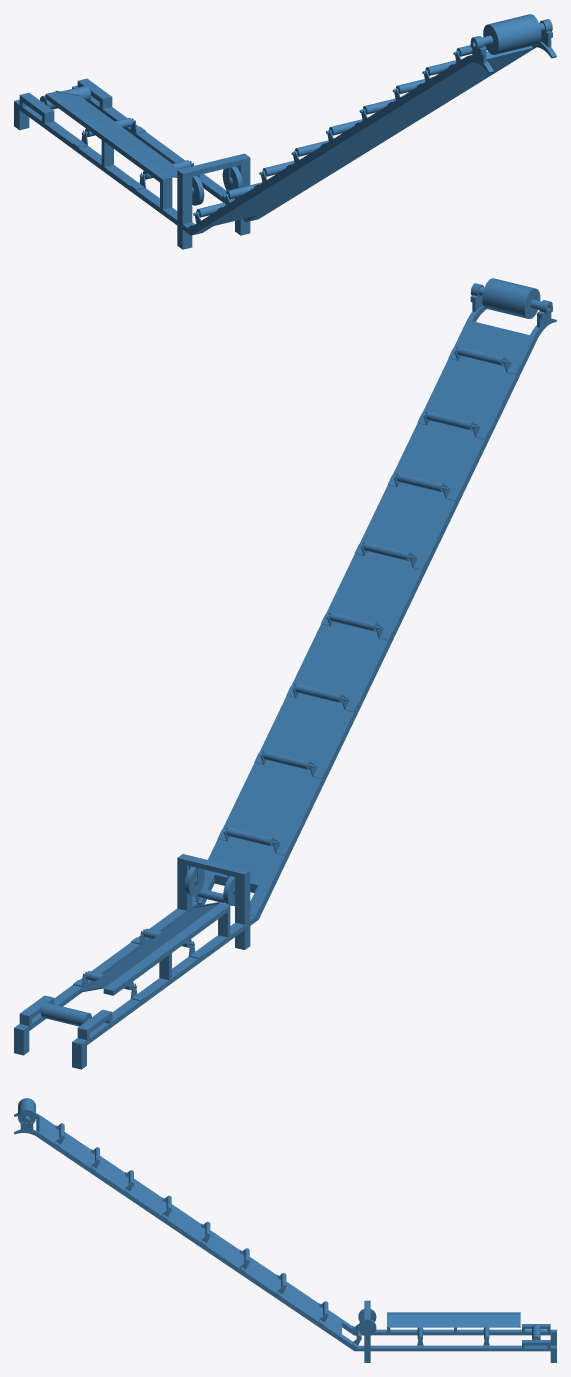
Rendered from 皮带机.glb.
3 renders of one model, top to bottom at view 1: azimuth 30°, elevation 25°; view 2: azimuth 150°, elevation 25°; view 3: azimuth 270°, elevation 25°, orthographic. The views are drawn at different scales.
Visible parts, largest first — view 1: root; view 2: root; view 3: root.
Boxes of the visible parts, x1=… form: root: x1=14, y1=14, x2=556, y2=249; root: x1=14, y1=278, x2=556, y2=1069; root: x1=14, y1=1098, x2=556, y2=1362.
Size of the model in its own units: 0.78 by 4.33 by 8.53.
